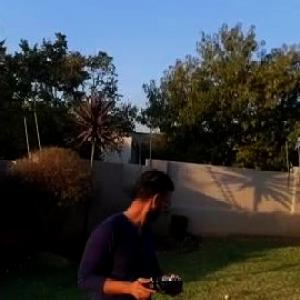follow: (71, 161, 187, 299)
